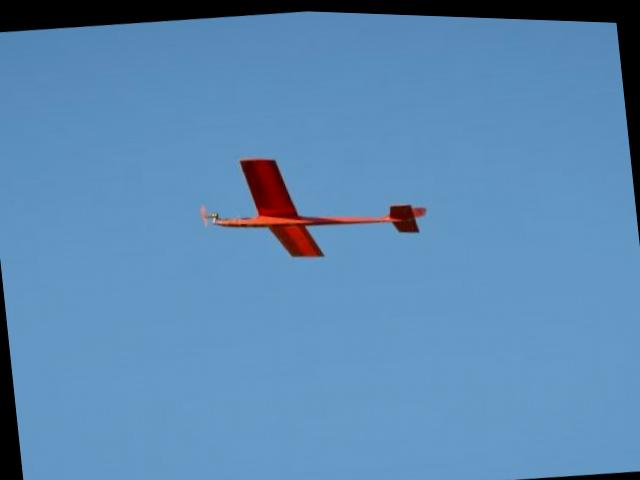iha: (192, 135, 434, 275)
